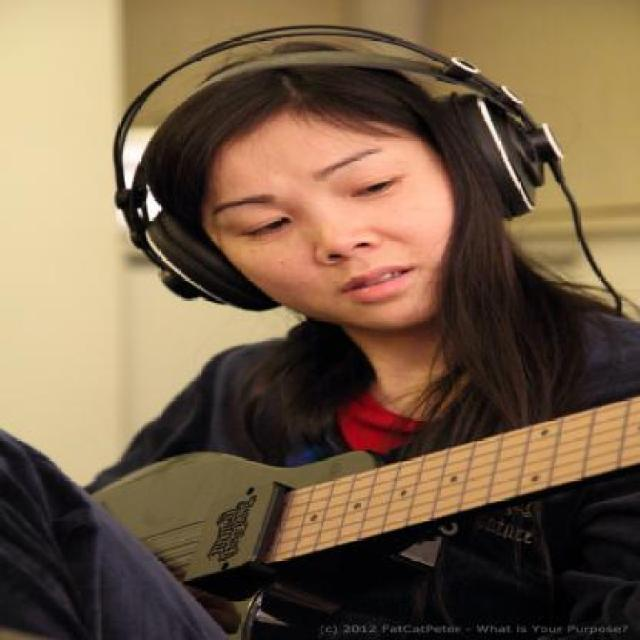earphone: (83, 5, 567, 302)
